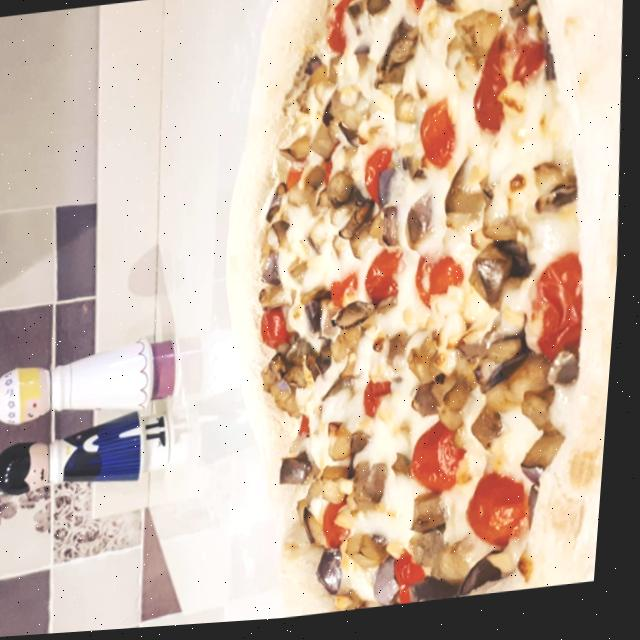pizza: (192, 0, 640, 628)
tomatoes: (537, 260, 592, 369), (471, 476, 540, 559), (413, 424, 476, 501), (471, 38, 514, 142), (417, 258, 471, 315), (419, 104, 461, 176), (366, 253, 408, 311), (324, 0, 359, 60), (366, 152, 397, 210), (329, 506, 360, 554), (265, 309, 298, 354), (402, 556, 437, 594), (307, 163, 337, 195), (368, 384, 389, 424), (407, 0, 430, 18)
